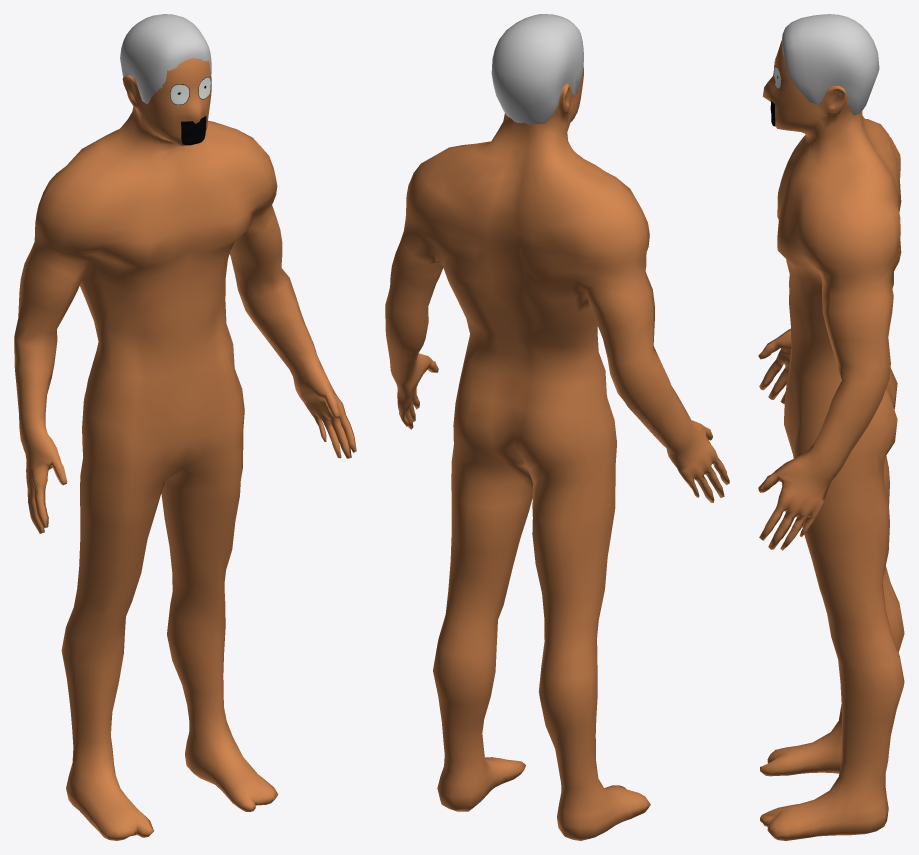
File: main character_retoptime;-;_RetopoFlow_AutoSave.obj
3 renders of one model, left to right at view 1: azimuth 30°, elevation 25°; view 2: azimuth 150°, elevation 25°; view 3: azimuth 270°, elevation 25°, orthographic.
Visible parts, largest first — view 1: bake, hair; view 2: bake, hair; view 3: bake, hair.
Part boxes in pixels (left/top/right/bottom): bake: left=14, top=58, right=356, bottom=840; hair: left=120, top=14, right=211, bottom=103; bake: left=385, top=66, right=729, bottom=840; hair: left=491, top=14, right=583, bottom=124; bake: left=758, top=40, right=904, bottom=840; hair: left=782, top=14, right=879, bottom=115.
Size of the model in its own units: 1.63 by 3.84 by 0.6497.
4 materials, 2 textured.
